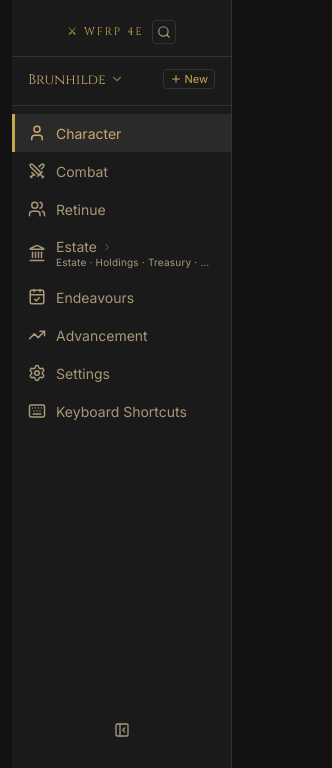
Test: Character switcher consolidation (Task 20.2) › Req 15.2: quick-switch switches the active character › renders the "Switch Character" heading in the quick-switch list
Click the button "Brunhilde".
click(76, 79)  # box [28, 70, 124, 88]
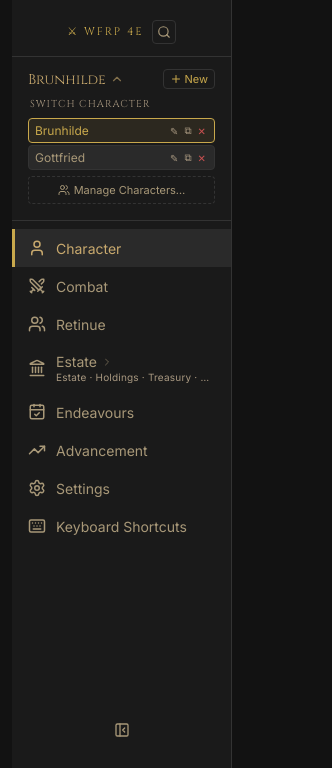
Check: the text "Switch Character" is shown, box [30, 97, 150, 111]
